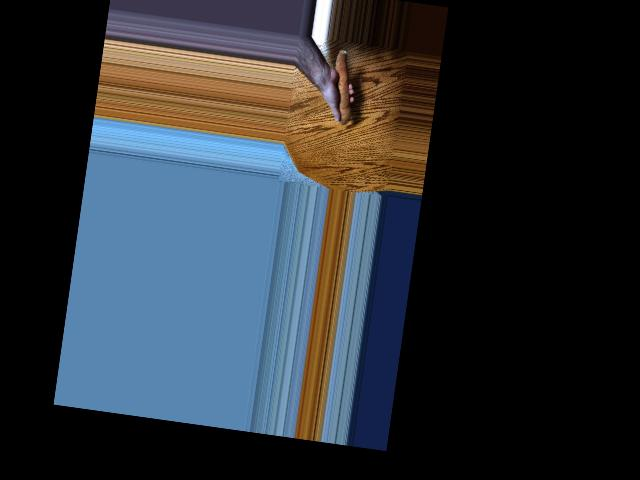sweet_potato: (324, 45, 360, 125)
